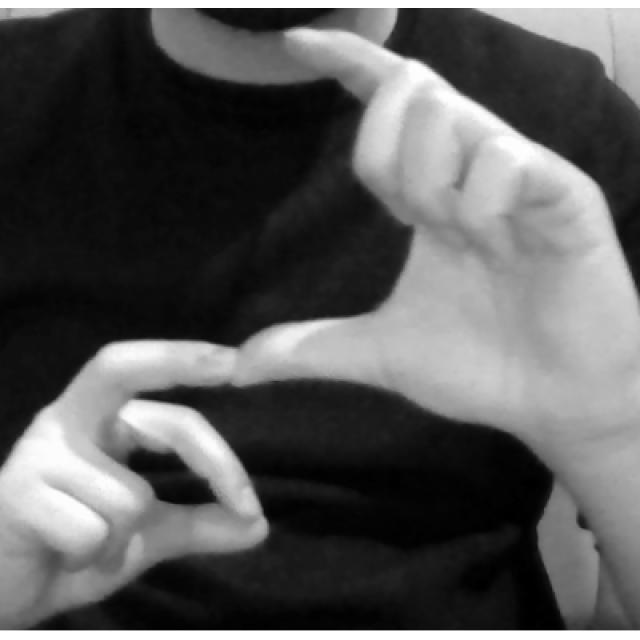S_: (6, 25, 640, 619)
